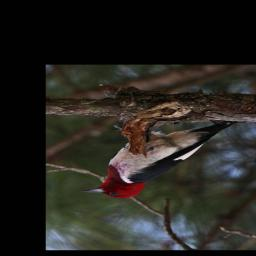Woodpecker: (78, 120, 247, 200)
